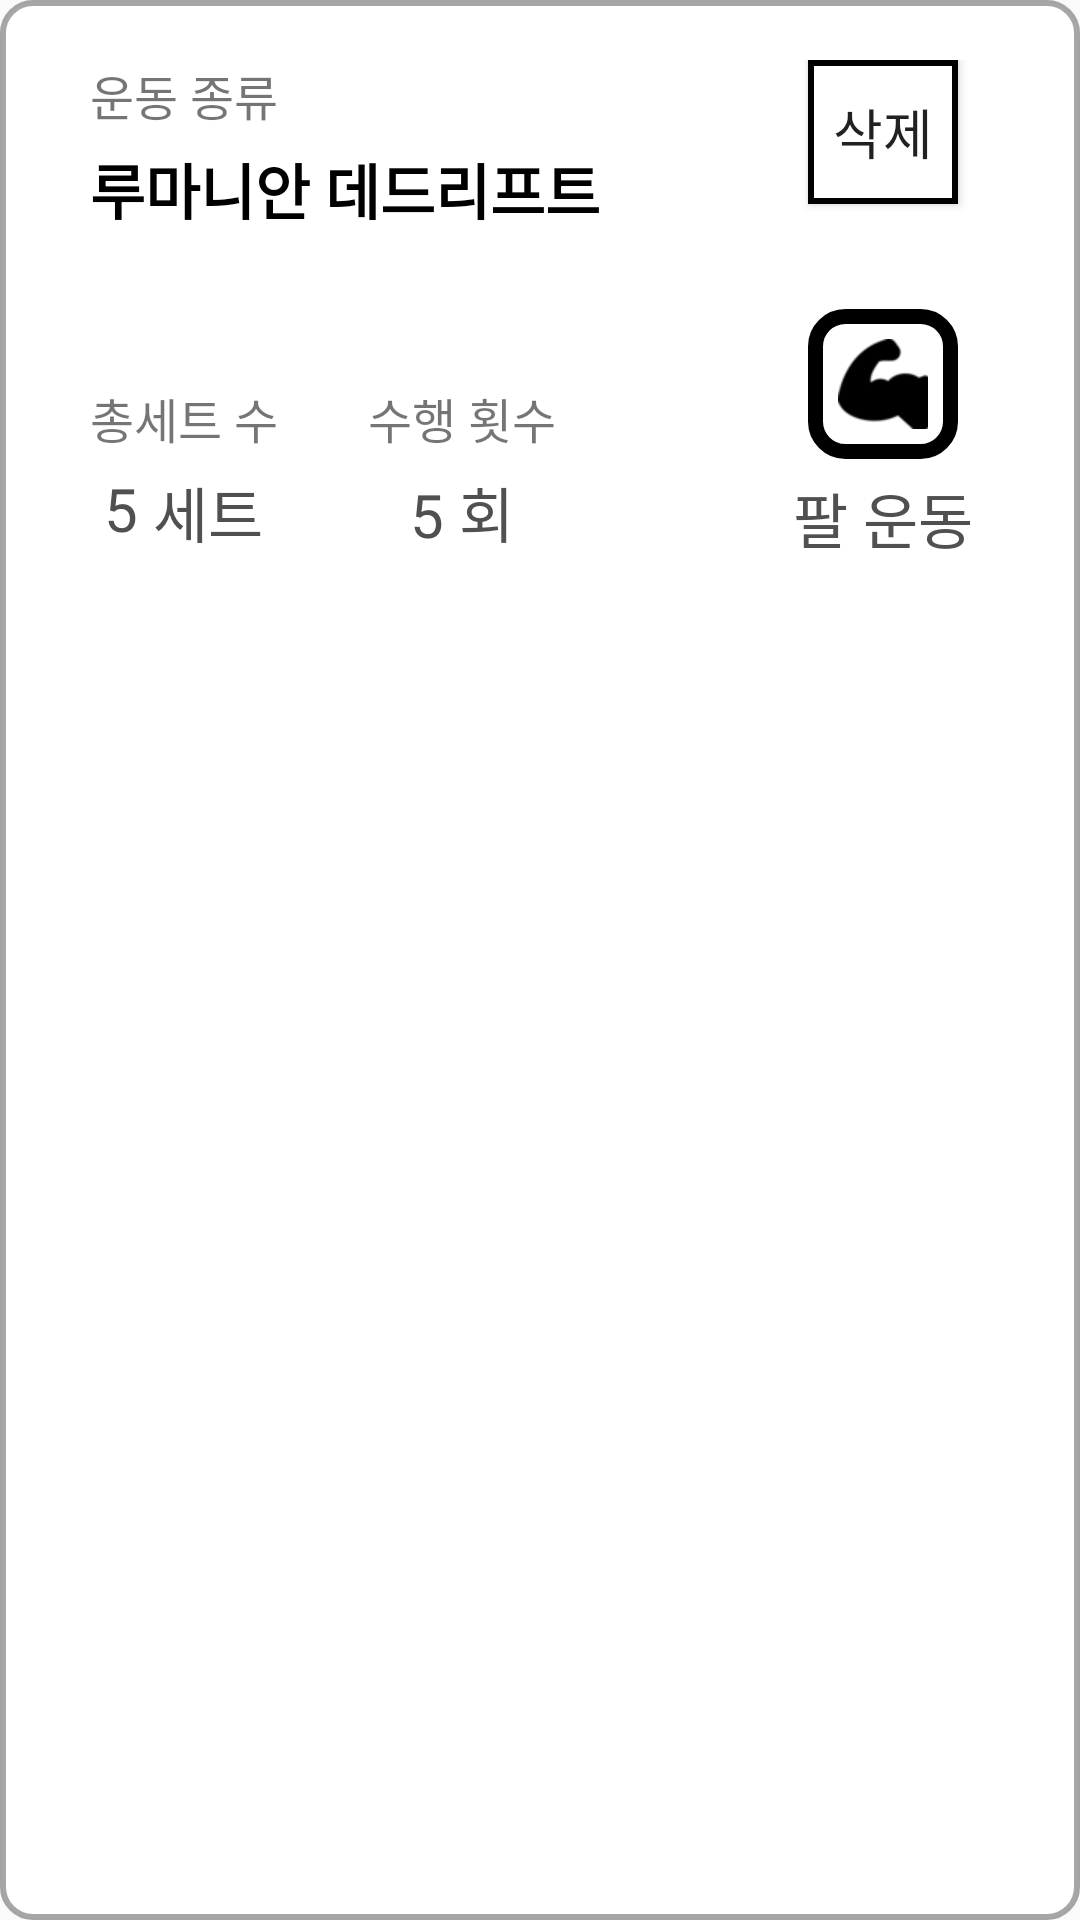

Screen size 1080px×1920px. Icon name, then its box in pixels as (x1, y1, x2, y2):
bicep: (808, 309, 958, 459)
